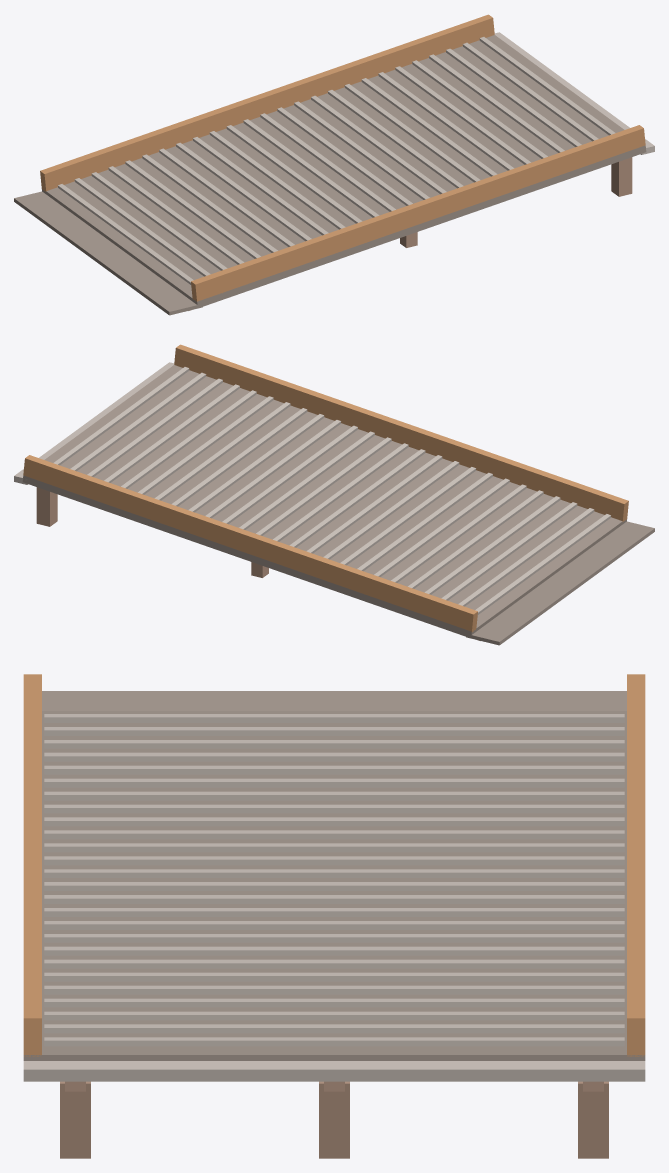
The model's file is P08_vehicle_ramp_4m.glb.
3 views of the same model, one above another, from view 1: azimuth 30°, elevation 25°; view 2: azimuth 150°, elevation 25°; view 3: azimuth 270°, elevation 25° (orthographic). The views are drawn at different scales.
Parts seen in each view (by area): view 1: ramp_plate, grip_rib (×26), side_rail (×2), toe_plate, top_lip, leg; view 2: ramp_plate, grip_rib (×26), side_rail (×2), toe_plate, top_lip, leg; view 3: grip_rib (×26), ramp_plate, side_rail (×2), top_lip, toe_plate, leg (×3).
Boxes of the visible parts, bbox=[...] form: ramp_plate: bbox=[42, 35, 646, 308]; grip_rib (×26): bbox=[58, 37, 615, 284]; side_rail (×2): bbox=[40, 14, 645, 301]; toe_plate: bbox=[14, 191, 202, 315]; top_lip: bbox=[494, 32, 654, 154]; leg: bbox=[611, 157, 632, 196]; ramp_plate: bbox=[22, 365, 626, 637]; grip_rib (×26): bbox=[53, 367, 610, 614]; side_rail (×2): bbox=[23, 344, 628, 632]; toe_plate: bbox=[466, 521, 654, 645]; top_lip: bbox=[14, 362, 174, 484]; leg: bbox=[36, 487, 57, 526]; grip_rib (×26): bbox=[44, 714, 624, 1046]; ramp_plate: bbox=[23, 711, 645, 1060]; side_rail (×2): bbox=[23, 674, 645, 1056]; top_lip: bbox=[23, 1061, 645, 1081]; toe_plate: bbox=[42, 691, 626, 710]; leg (×3): bbox=[60, 1081, 608, 1158].
Bounding box in the file's own units: 4.33 × 0.6985 × 2.4.
